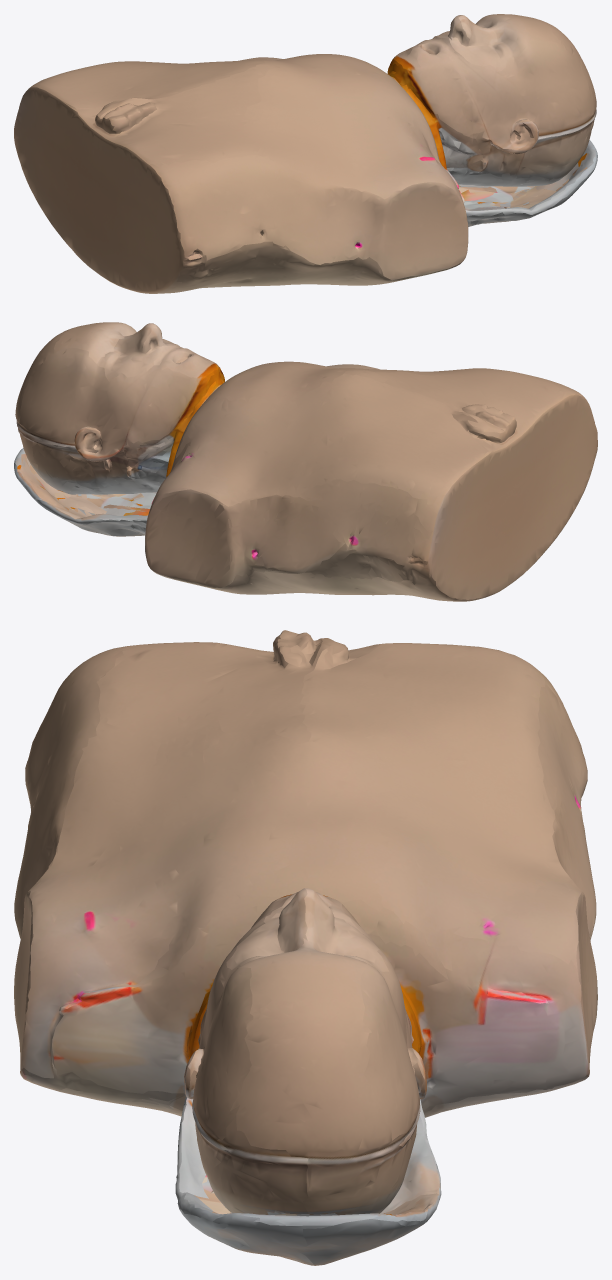
Rendered from training_mannequin.glb.
3 views of the same model, one above another, from view 1: azimuth 30°, elevation 25°; view 2: azimuth 150°, elevation 25°; view 3: azimuth 270°, elevation 25° (orthographic). The views are drawn at different scales.
Visible parts, largest first — view 1: textured_mesh; view 2: textured_mesh; view 3: textured_mesh.
Boxes of the visible parts, x1=… form: textured_mesh: x1=14, y1=14, x2=597, y2=293; textured_mesh: x1=14, y1=322, x2=597, y2=601; textured_mesh: x1=14, y1=630, x2=597, y2=1265.
Size of the model in its own units: 1.99 by 0.7871 by 1.29.
Materials: 1 (1 with a texture image).
